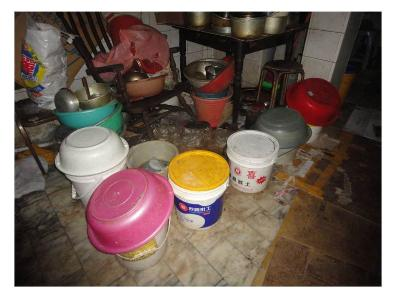bowl: (84, 166, 175, 256), (52, 124, 135, 178), (282, 76, 345, 128), (251, 104, 313, 150), (53, 99, 121, 126), (180, 58, 227, 89), (229, 13, 268, 41), (70, 83, 115, 105), (124, 74, 166, 97), (53, 87, 78, 116), (264, 14, 288, 36)
bucket: (165, 148, 230, 235), (224, 128, 282, 195), (107, 220, 172, 272), (190, 88, 234, 127)
plastic_bag: (19, 20, 72, 115), (90, 23, 170, 84)
